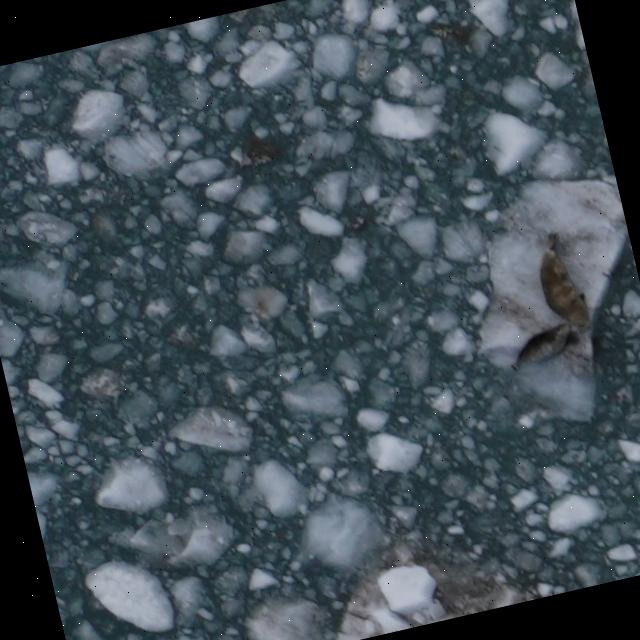seal: (527, 223, 598, 344), (501, 317, 584, 379)
